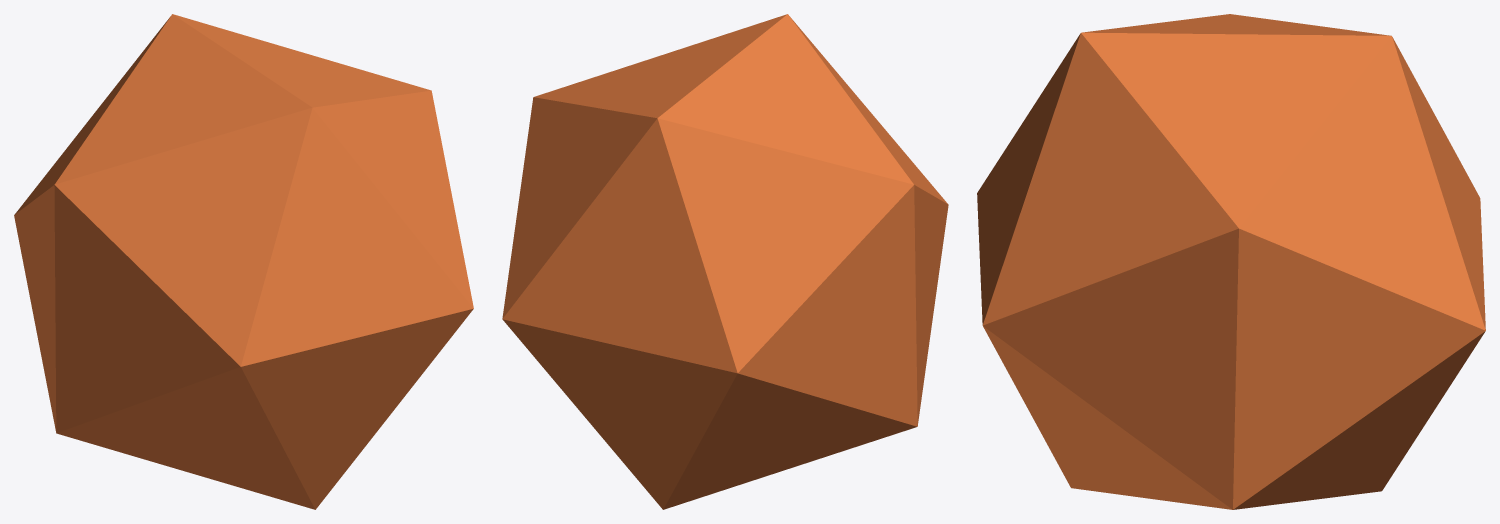
File: Orange.fbx
The picture shows the model from 3 angles, left to right: view 1: azimuth 30°, elevation 25°; view 2: azimuth 150°, elevation 25°; view 3: azimuth 270°, elevation 25°; orthographic projection. The views are drawn at different scales.
Visible parts, largest first — view 1: Icosphere; view 2: Icosphere; view 3: Icosphere.
Boxes of the visible parts, x1,y1,x2,y2 form: Icosphere: (14, 14, 473, 509); Icosphere: (502, 14, 948, 509); Icosphere: (977, 14, 1485, 509).
Size of the model in its own units: 170 by 172 by 172.
